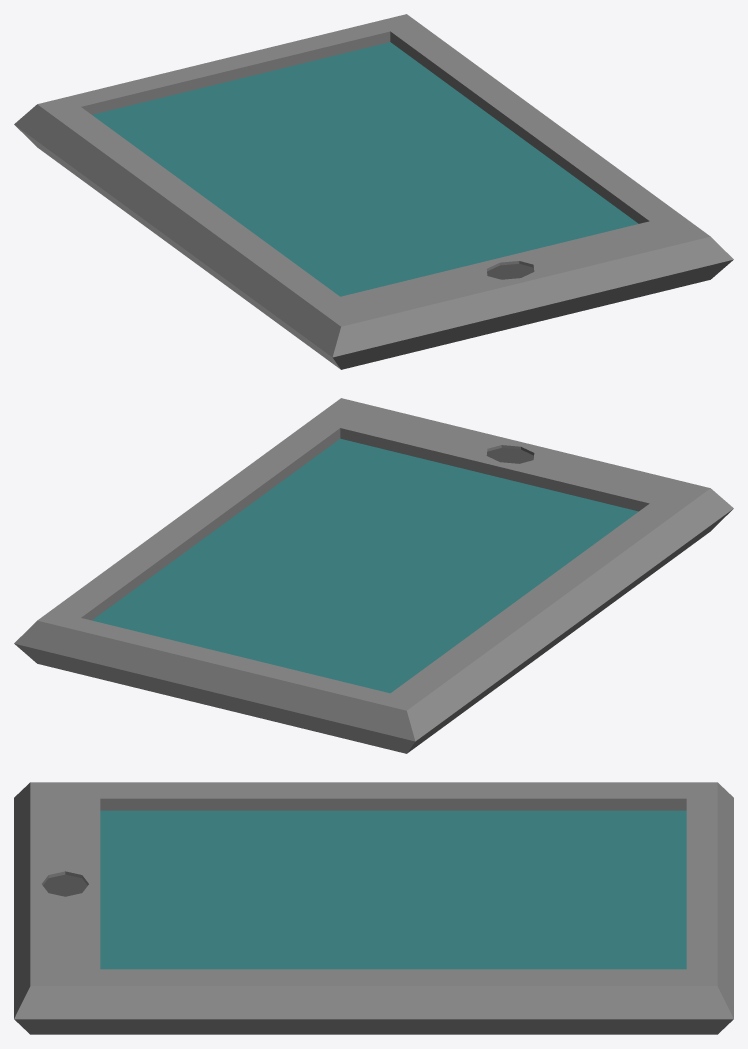
The model's file is Tablet.glb.
3 renders of one model, top to bottom at view 1: azimuth 30°, elevation 25°; view 2: azimuth 150°, elevation 25°; view 3: azimuth 270°, elevation 25°, orthographic. The views are drawn at different scales.
Parts seen in each view (by area): view 1: Tablet; view 2: Tablet; view 3: Tablet.
Part boxes in pixels (x1,y1,x2,y2): Tablet: (14,14,733,369); Tablet: (14,398,733,753); Tablet: (14,782,733,1034).
Size of the model in its own units: 169 by 17.4 by 233.
